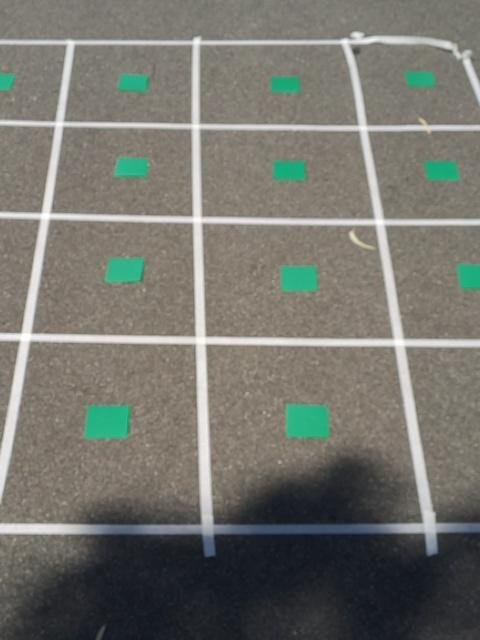weed: (83, 400, 134, 440), (284, 401, 332, 443), (106, 253, 147, 286), (280, 261, 318, 292), (112, 153, 153, 179), (271, 157, 308, 181), (116, 70, 151, 92), (426, 160, 461, 181), (457, 260, 480, 291), (269, 72, 302, 93), (407, 67, 437, 88), (0, 72, 18, 90)
